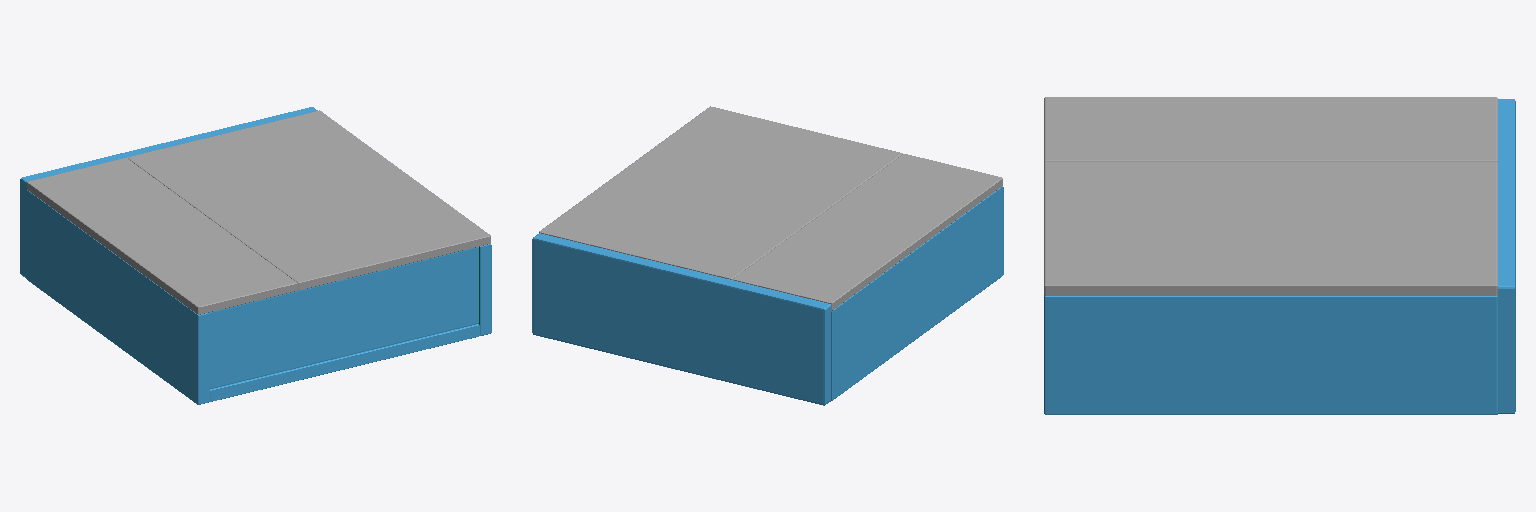
URDF robot description (182):
<robot name="182">


	<link name="0:virtual">
		<visual>
			<origin xyz="0.0 0.0 0.0" rpy="0 0 0"/>
			<geometry>
				<cylinder length="0" radius="0"/>
			</geometry>
		</visual>
	</link>


	<link name="1:static">
		<visual>
			<origin xyz="-0.0 -0.0 -0.0" rpy="0 0 0"/>
			<geometry>
				<mesh filename="../raw_data/182/part_meshes/1.dae" />
			</geometry>
		</visual>
	</link>


	<link name="2:cabinet door 1">
		<visual>
			<origin xyz="0.3800741913812084 -0.3799999974446584 -0.10214670374159499" rpy="0 0 0"/>
			<geometry>
				<mesh filename="../raw_data/182/part_meshes/2.dae" />
			</geometry>
		</visual>
	</link>


	<link name="3:cabinet door 2">
		<visual>
			<origin xyz="-0.375 -0.3799999974446584 -0.11000650003552437" rpy="0 0 0"/>
			<geometry>
				<mesh filename="../raw_data/182/part_meshes/3.dae" />
			</geometry>
		</visual>
	</link>


	<joint name="0:virtual::1:static" type="fixed">
		<parent link="0:virtual"/>
		<child link="1:static"/>
		<origin xyz="0.0 0.0 0.0" rpy="0 0 0"/>
	</joint>


	<joint name="0:virtual::2:cabinet door 1_rotation" type="revolute">
		<parent link="0:virtual"/>
		<child link="2:cabinet door 1"/>
		<origin xyz="-0.3800741913812084 0.3799999974446584 0.10214670374159499" rpy="0 0 0"/>
		<limit lower="-2.214822820780804" upper="0.0" effort="10" velocity="3"/>
		<axis xyz="0.0 1.0 0.0"/>
	</joint>


	<joint name="0:virtual::3:cabinet door 2_rotation" type="revolute">
		<parent link="0:virtual"/>
		<child link="3:cabinet door 2"/>
		<origin xyz="0.375 0.3799999974446584 0.11000650003552437" rpy="0 0 0"/>
		<limit lower="0.0" upper="2.419026343264141" effort="10" velocity="3"/>
		<axis xyz="0.0 1.0 0.0"/>
	</joint>


</robot>

--- Facts derived from the render (not from the file) ---
3 views of the same robot in one strip: view 1: azimuth 30°, elevation 25°; view 2: azimuth 150°, elevation 25°; view 3: azimuth 270°, elevation 25° (orthographic).
Robot: 182 — 4 links, 3 joints (2 revolute, 1 fixed); root link 0:virtual; default pose: all joints at 0.
Visible links, largest first — view 1: 1:static, 3:cabinet door 2, 2:cabinet door 1; view 2: 1:static, 3:cabinet door 2, 2:cabinet door 1; view 3: 3:cabinet door 2, 1:static, 2:cabinet door 1.
Boxes of the visible links, x1=… form: 1:static: x1=20, y1=107, x2=491, y2=404; 3:cabinet door 2: x1=127, y1=110, x2=490, y2=290; 2:cabinet door 1: x1=27, y1=158, x2=479, y2=324; 1:static: x1=532, y1=186, x2=1003, y2=405; 3:cabinet door 2: x1=539, y1=106, x2=902, y2=279; 2:cabinet door 1: x1=733, y1=154, x2=1002, y2=310; 3:cabinet door 2: x1=1044, y1=161, x2=1497, y2=295; 1:static: x1=1044, y1=99, x2=1515, y2=414; 2:cabinet door 1: x1=1044, y1=97, x2=1497, y2=161.
Bounding box of the posed robot: 0.75 × 0.7898 × 0.24 m (x, y, z).
3 mesh visuals loaded from 3 distinct referenced files (3 Collada DAE).